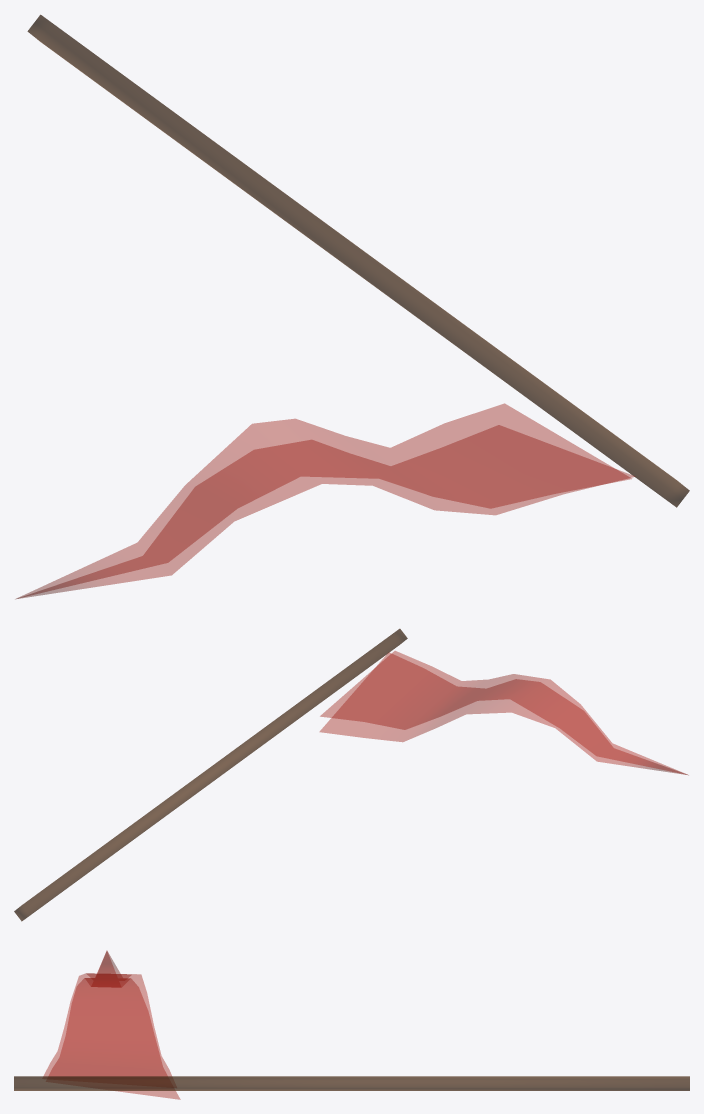
The model's file is flag_000009.obj.
3 views of the same model, one above another, from view 1: azimuth 30°, elevation 25°; view 2: azimuth 150°, elevation 25°; view 3: azimuth 270°, elevation 25° (orthographic). The views are drawn at different scales.
Parts seen in each view (by area): view 1: Plane.021_Plane.022, Cylinder; view 2: Plane.021_Plane.022, Cylinder; view 3: Plane.021_Plane.022, Cylinder.
Part boxes in pixels (x1,y1,x2,y2): Plane.021_Plane.022: (15,403,634,599); Cylinder: (27,14,689,507); Plane.021_Plane.022: (320,651,688,775); Cylinder: (14,628,407,921); Plane.021_Plane.022: (44,951,180,1099); Cylinder: (14,1076,689,1090).
Size of the model in its own units: 1.92 by 0.3046 by 3.6.
